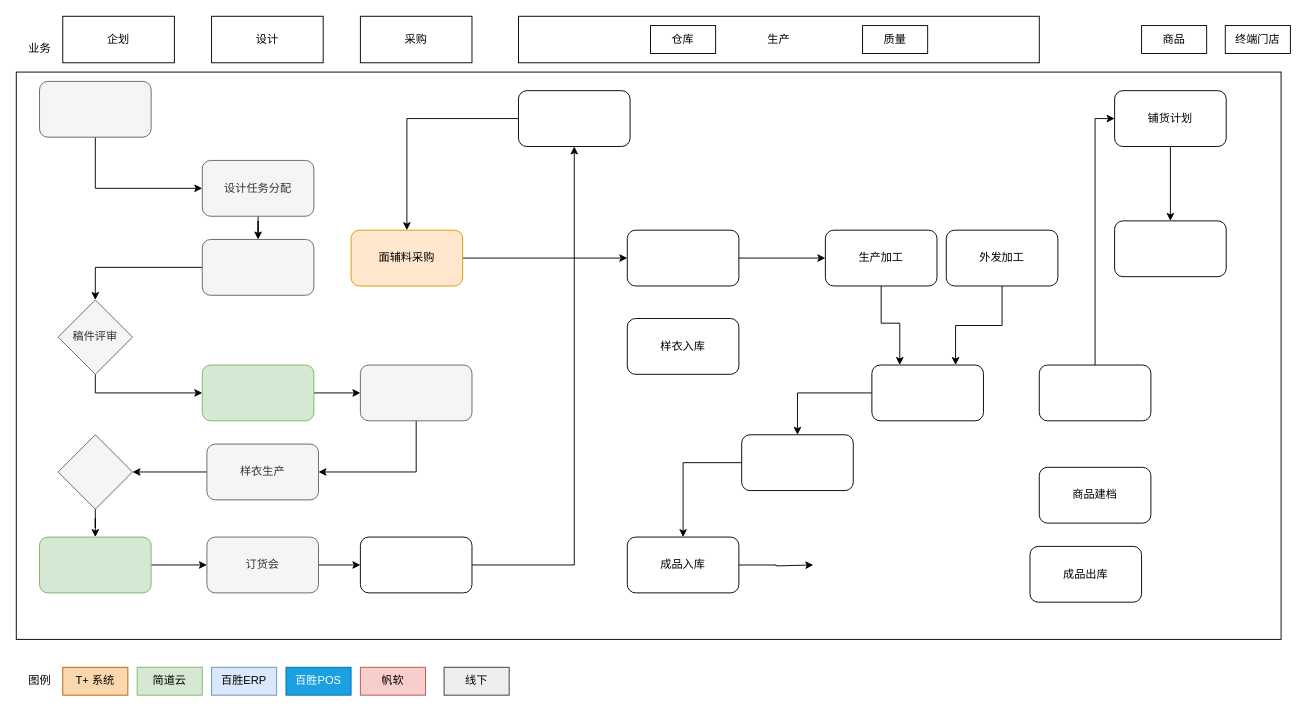
This 1307x711 diagram has some shape labels left out. Here are the shapes that lost their labels. From the top down, the centre of each, then its label:
At pixel 95 108: "主题企划".
At pixel 574 118: "生产计划???".
At pixel 257 267: "稿件设计".
At pixel 682 257: "验货入库".
At pixel 1170 248: "铺货".
At pixel 257 392: "下稿制版".
At pixel 415 392: "版料采购".
At pixel 927 392: "生产日报 | 吊牌打印".
At pixel 1094 392: "商品进货单".
At pixel 95 471: "样衣评审".
At pixel 797 462: "成品质检".
At pixel 95 564: "样衣核价".
At pixel 415 564: "大货订单???".
